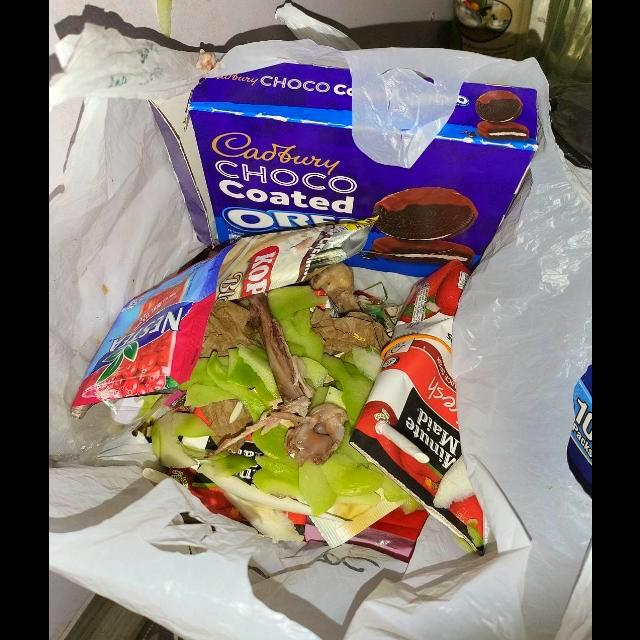cardboard: (187, 63, 540, 278)
plastic_sachet: (70, 247, 230, 420), (215, 217, 378, 303)
